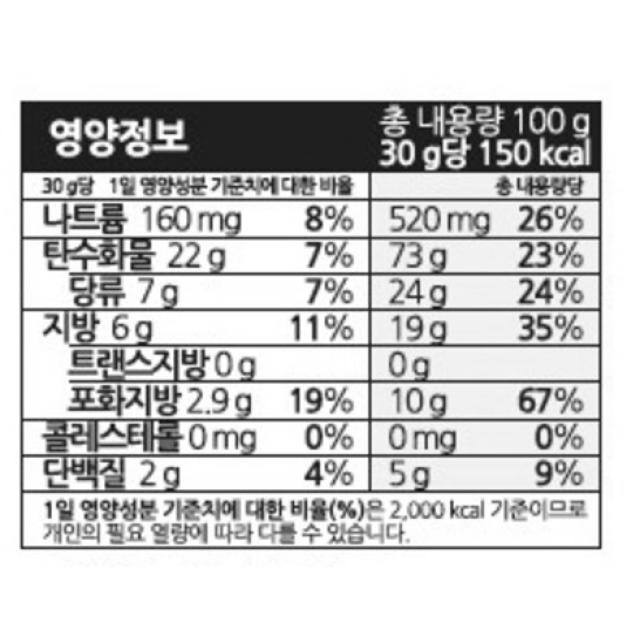Nutrition Label: (11, 88, 619, 566)
